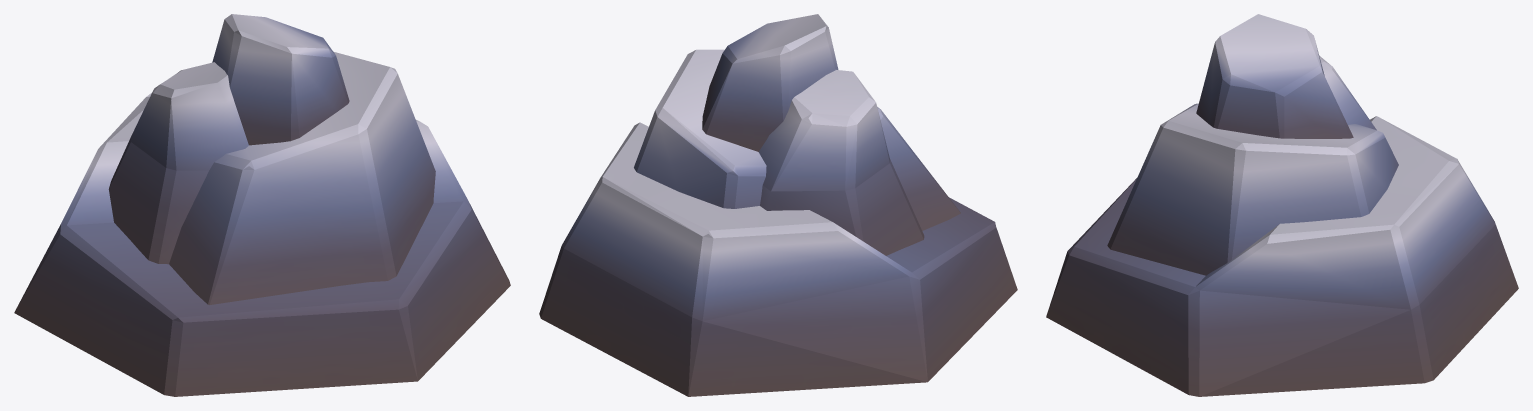
File: block_mountain_1_4.fbx
3 views of the same model, side by side, from view 1: azimuth 30°, elevation 25°; view 2: azimuth 150°, elevation 25°; view 3: azimuth 270°, elevation 25° (orthographic). The views are drawn at different scales.
Visible parts, largest first — view 1: block_mountain_1_4; view 2: block_mountain_1_4; view 3: block_mountain_1_4.
Boxes of the visible parts, x1,y1,x2,y2 form: block_mountain_1_4: [14, 14, 510, 396]; block_mountain_1_4: [539, 14, 1017, 396]; block_mountain_1_4: [1046, 14, 1518, 396].
Size of the model in its own units: 108 by 73.07 by 115.
